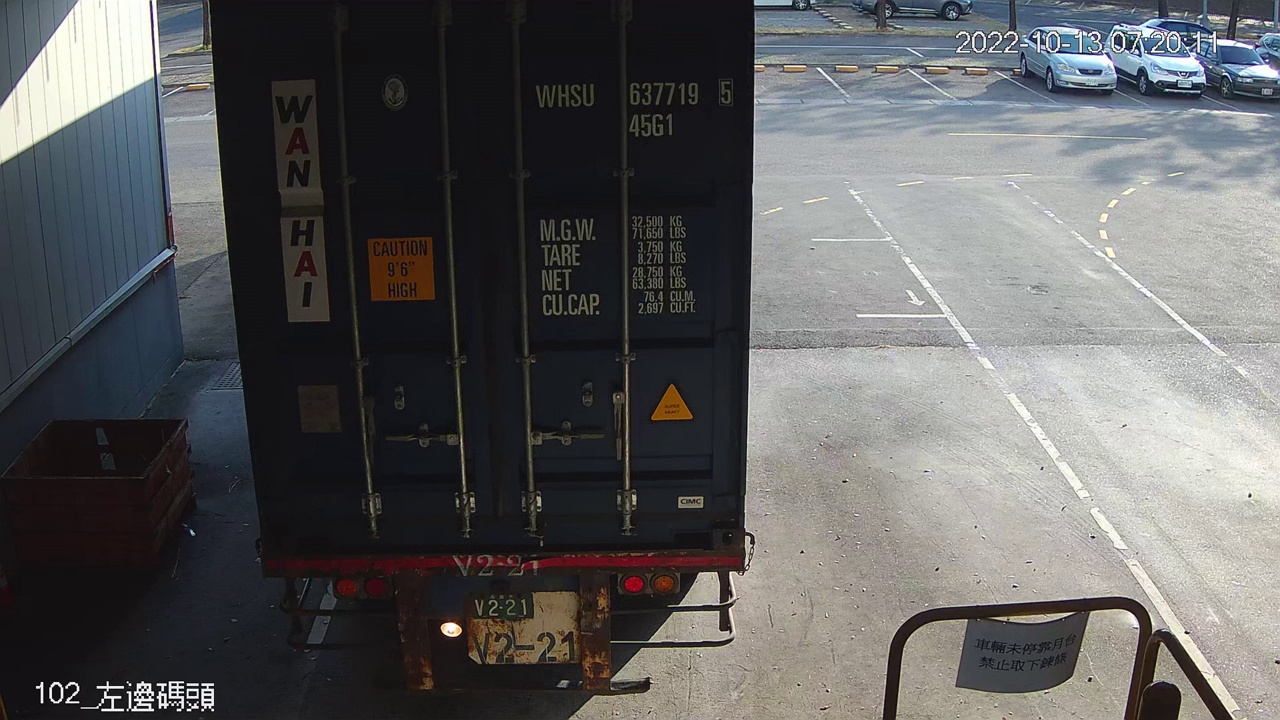container: (528, 71, 740, 144)
